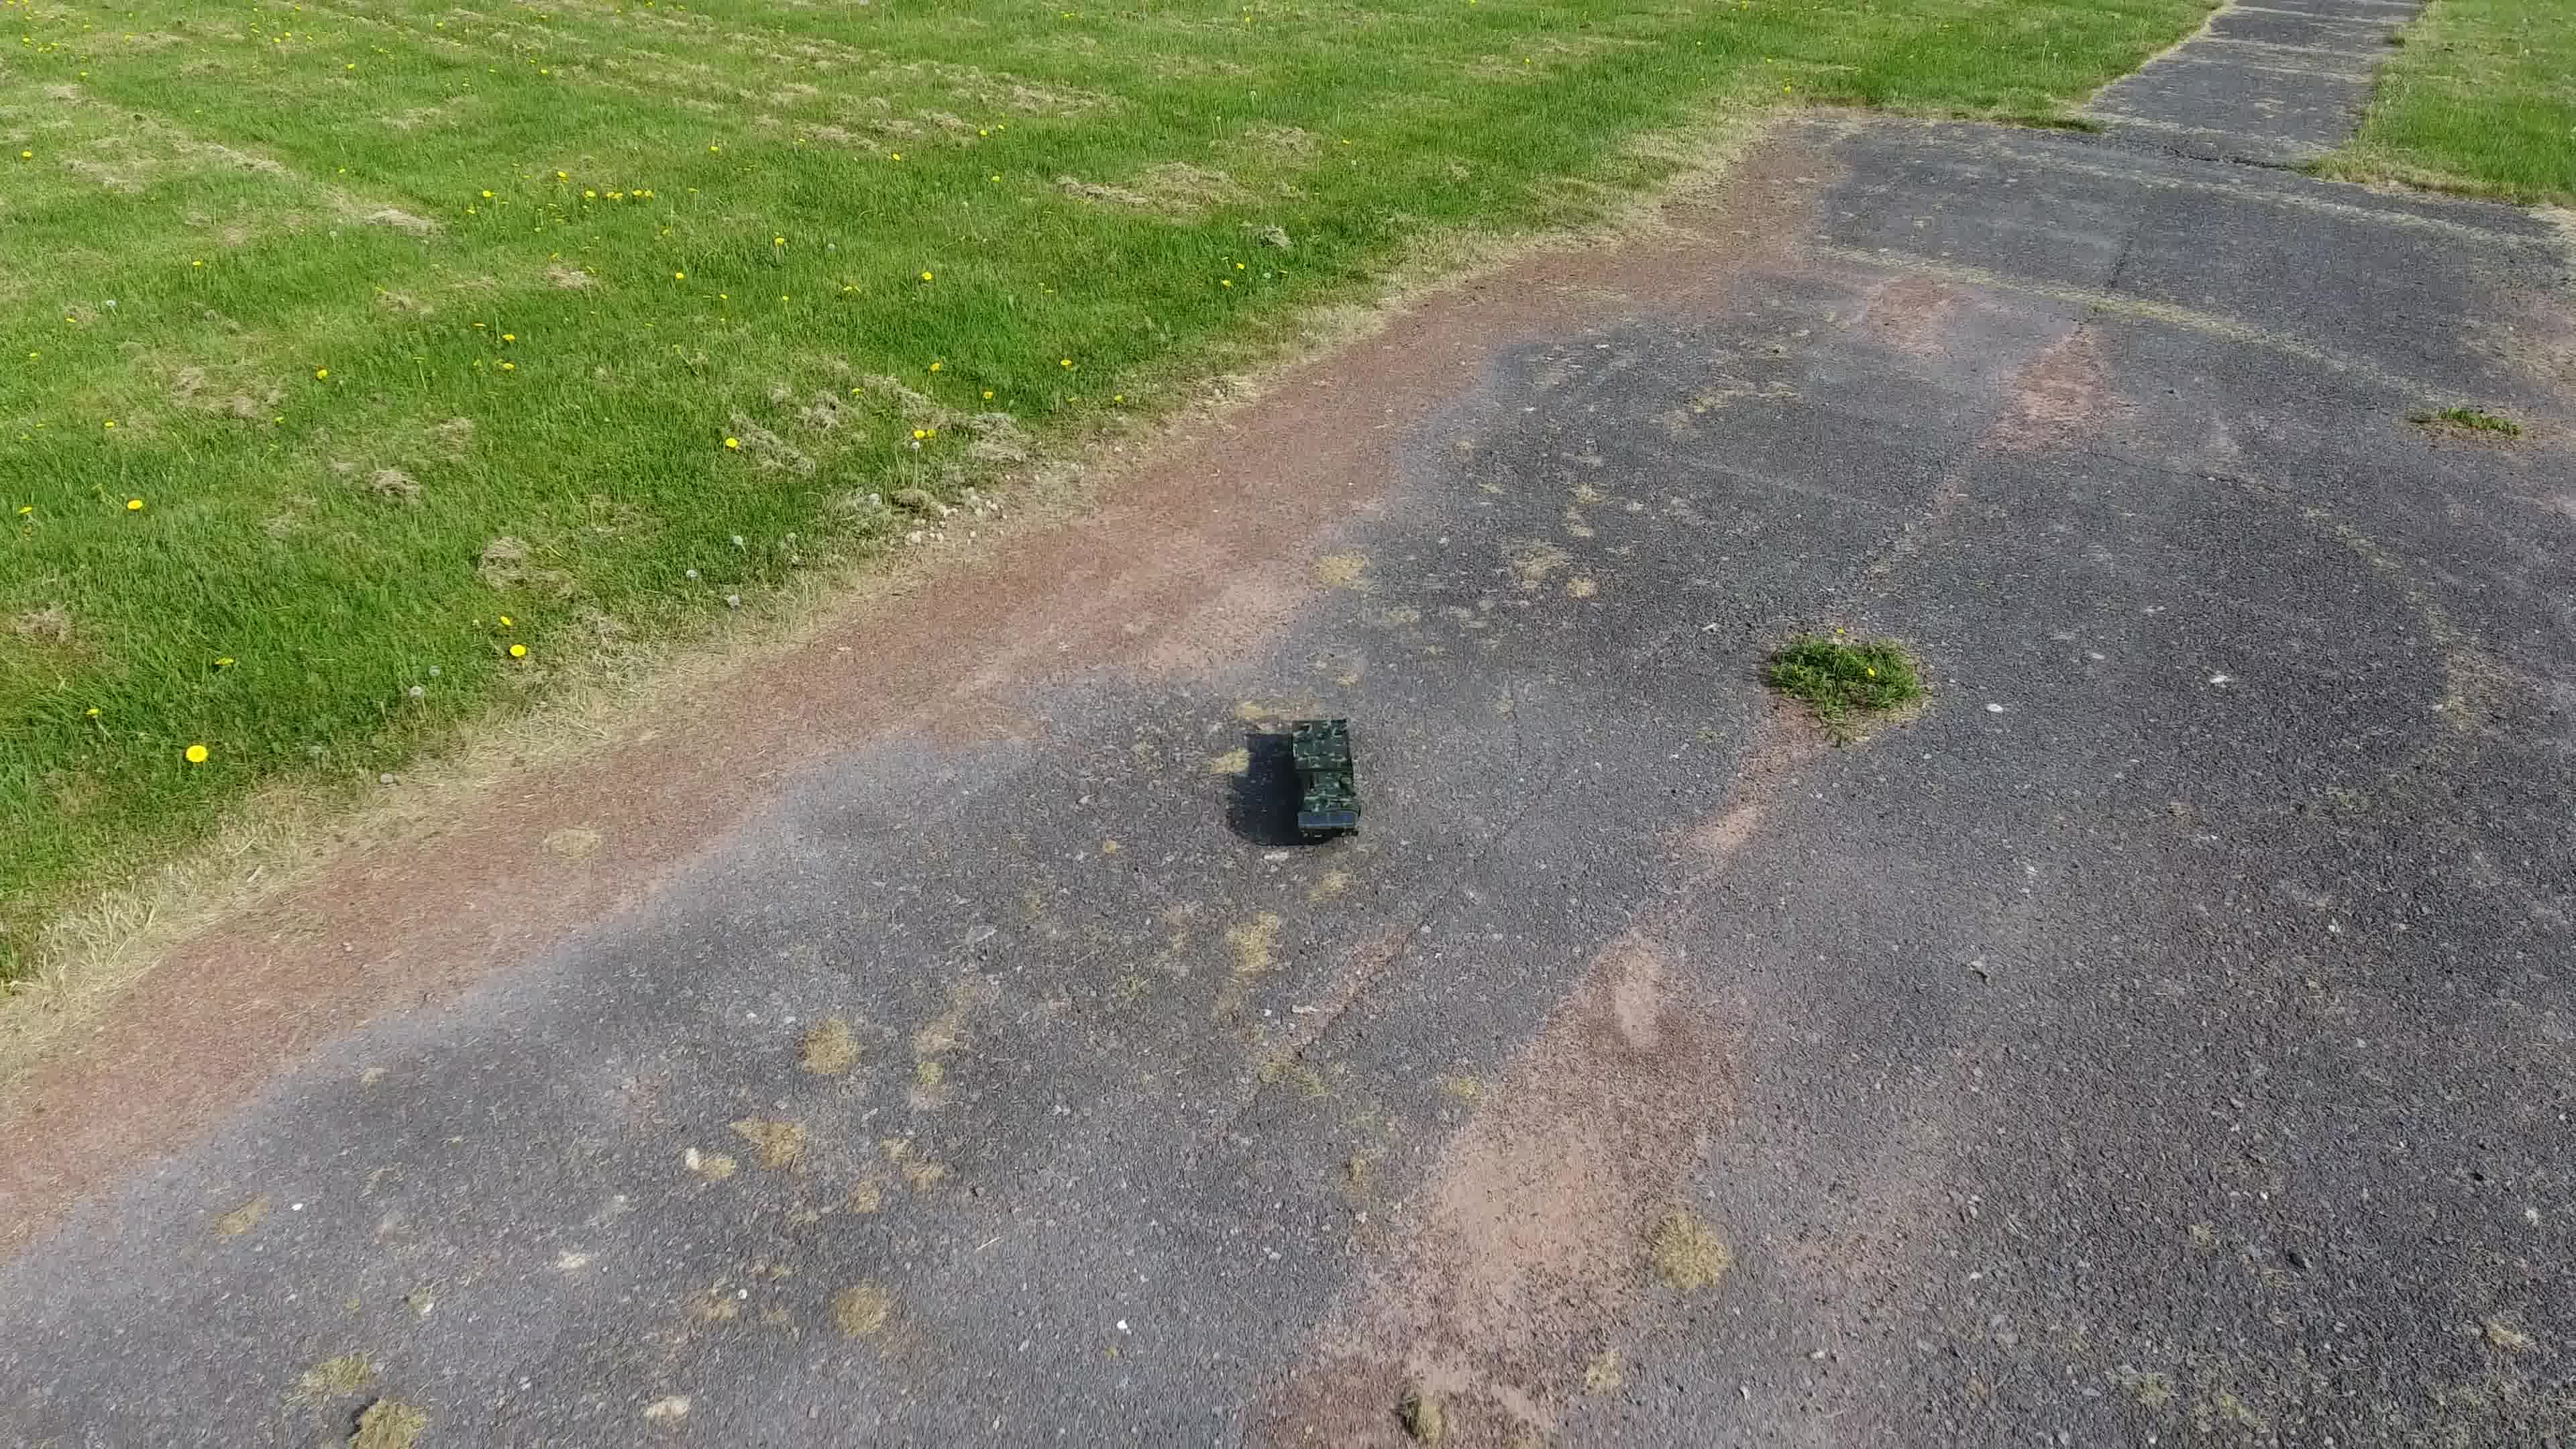transporter9_camo: (1286, 717, 1368, 844)
